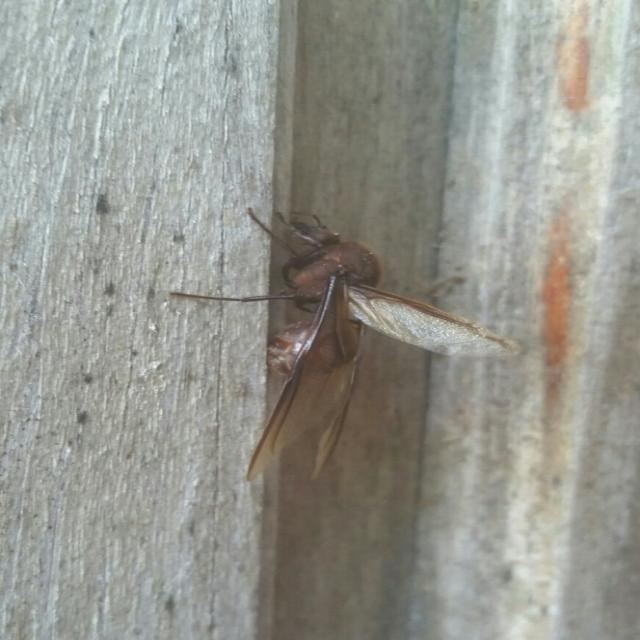Alive-Female-Alate: (171, 208, 523, 481)
